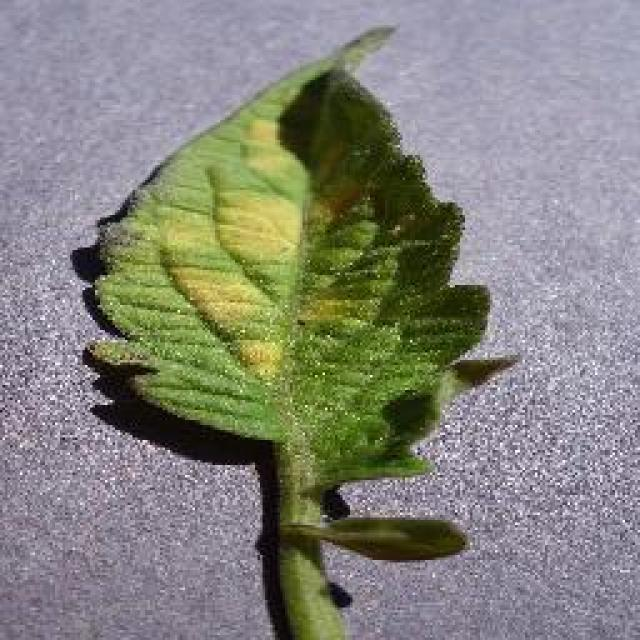Tomato mold leaf: (80, 22, 522, 480)
